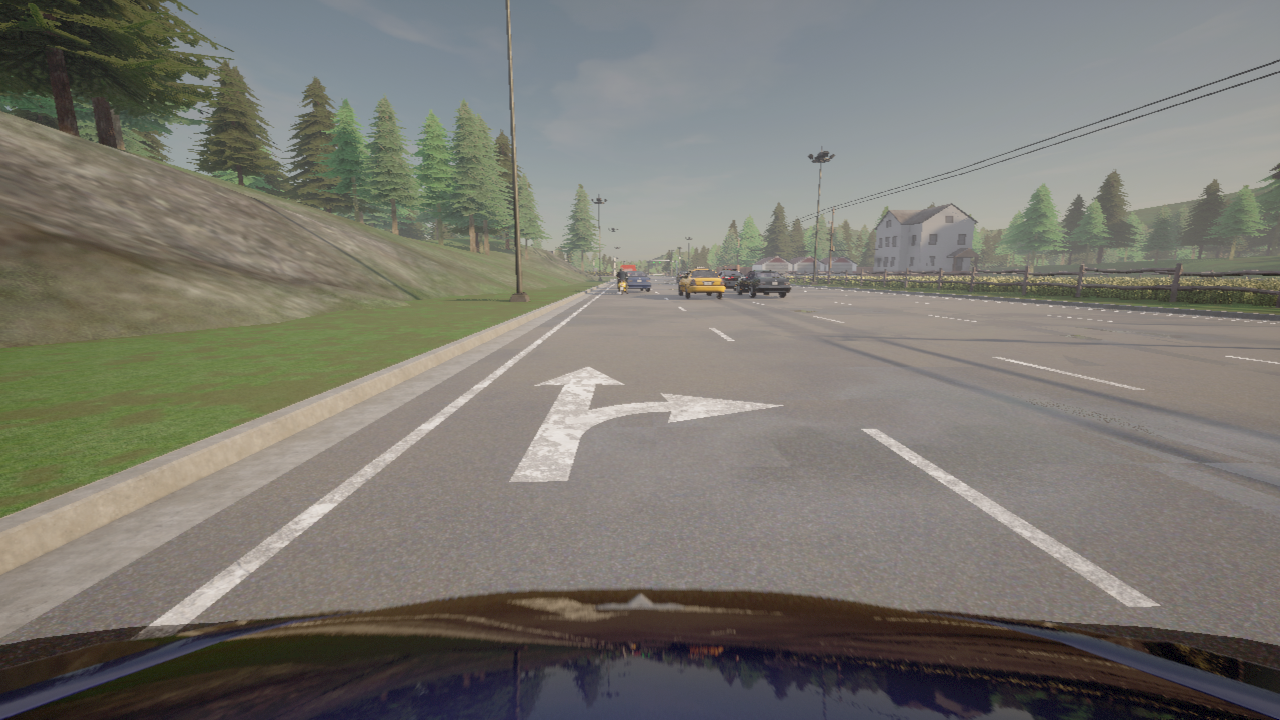cyclist: (0, 588, 1279, 719), (735, 270, 790, 297), (678, 266, 724, 298), (718, 269, 744, 290), (624, 271, 651, 291), (615, 273, 627, 294), (676, 271, 686, 282), (621, 265, 636, 270), (682, 271, 687, 276), (617, 278, 618, 288)
